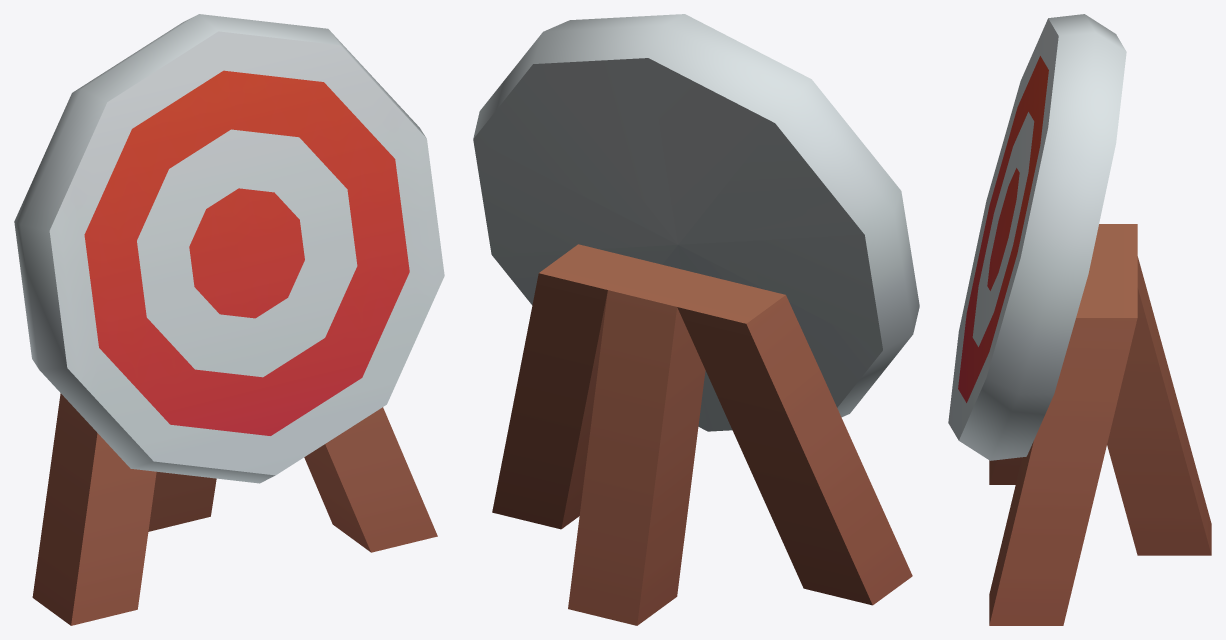
Rendered from d_kaykit_cible.glb.
3 views of the same model, side by side, from view 1: azimuth 30°, elevation 25°; view 2: azimuth 150°, elevation 25°; view 3: azimuth 270°, elevation 25° (orthographic). The views are drawn at different scales.
Parts seen in each view (by area): view 1: d_kaykit_cible; view 2: d_kaykit_cible; view 3: d_kaykit_cible.
Boxes of the visible parts, box(x1,y1,x2,y2) form: d_kaykit_cible: box(14, 14, 444, 625); d_kaykit_cible: box(473, 14, 919, 625); d_kaykit_cible: box(948, 14, 1211, 625).
Bounding box in the file's own units: 0.2393 × 0.3018 × 0.1421.
1 material, 1 textured.
